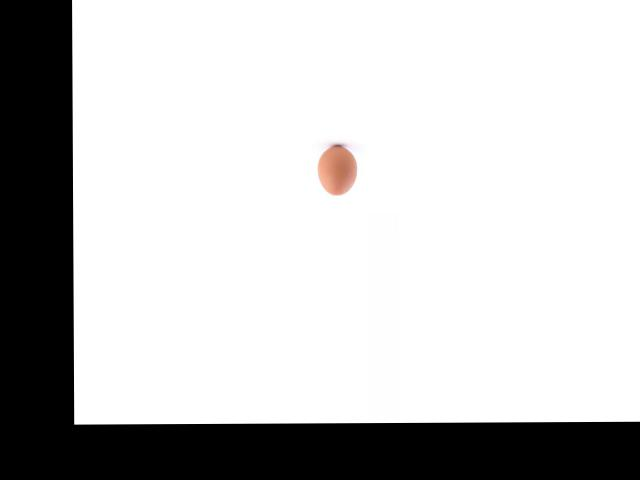egg: (318, 146, 358, 195)
